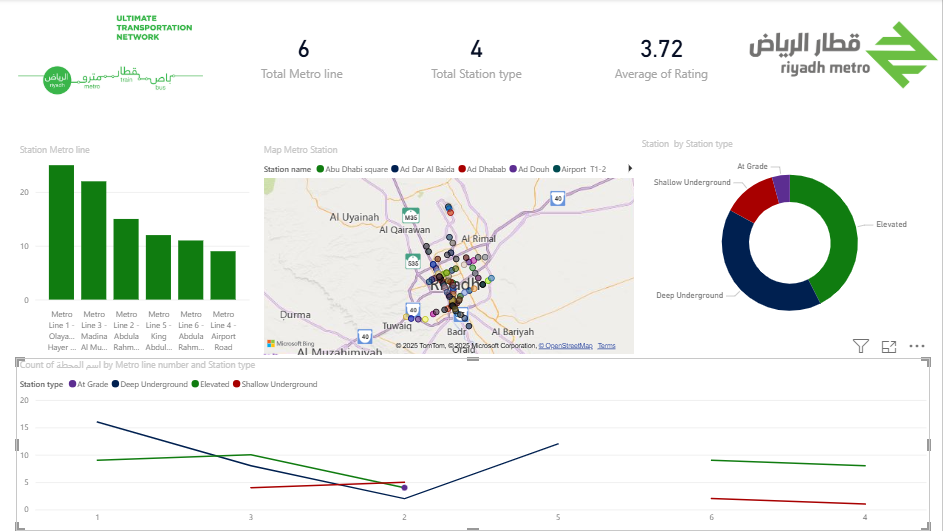

What the dashboard file says about the page in this screenshot:
{"tool":"powerbi","page":{"name":"Metro Stations Analysis","canvas":[1280,720],"ordinal":1},"visuals":[{"type":"map","title":"Map Metro Station ","fields":{"Y":["metro-stations.Latitude"],"X":["metro-stations.Longitude"],"Series":["metro-stations.Station name"]},"box":[357.2,194.8,511.5,290.9],"z":0},{"type":"clusteredColumnChart","title":" Station Metro line","fields":{"Category":["metro-lines.Metro line name"],"Y":["CountNonNull(metro-stations.Station name)"]},"box":[27.1,194.8,320.7,290.9],"z":1000},{"type":"donutChart","title":"Station  by Station type","fields":{"Category":["metro-stations.Station type"],"Y":["CountNonNull(metro-stations.Station name)"]},"box":[868.7,186.7,411.3,270.6],"z":2000},{"type":"card","fields":{"Values":["Avg(metro rating.Rating)"]},"box":[786.1,0,228.7,150.2],"z":2001},{"type":"card","fields":{"Values":["Count(metro-stations.Station type)"]},"box":[514.2,0,272,150.2],"z":2002},{"type":"card","fields":{"Values":["Count(metro-lines.Metro line name)"]},"box":[292.3,0,247.6,150.2],"z":2003},{"type":"lineChart","fields":{"Category":["metro-lines.Metro line number"],"Series":["metro-stations.Station type"],"Y":["Count(metro-stations.اسم المحطة)"]},"box":[27.1,485.8,1236.7,234.1],"z":2004},{"type":"image","box":[1014.8,0,265.2,150.2],"z":2005},{"type":"image","box":[0,0,309.9,150.2],"z":2006}]}

Visuals, with their boxes in screenshot pixels (x1, y1, x2, y2), scaled from the page's 1280x720 canvas onto the 943x531 screenshot:
"Map Metro Station " map: box=[263, 144, 640, 358]
" Station Metro line" clusteredColumnChart: box=[20, 144, 256, 358]
"Station  by Station type" donutChart: box=[640, 138, 942, 337]
card - Avg(metro rating.Rating): box=[579, 0, 748, 111]
card - Count(metro-stations.Station type): box=[379, 0, 579, 111]
card - Count(metro-lines.Metro line name): box=[215, 0, 398, 111]
lineChart - metro-lines.Metro line number x metro-stations.Station type: box=[20, 358, 931, 530]
image: box=[748, 0, 942, 111]
image: box=[0, 0, 228, 111]
